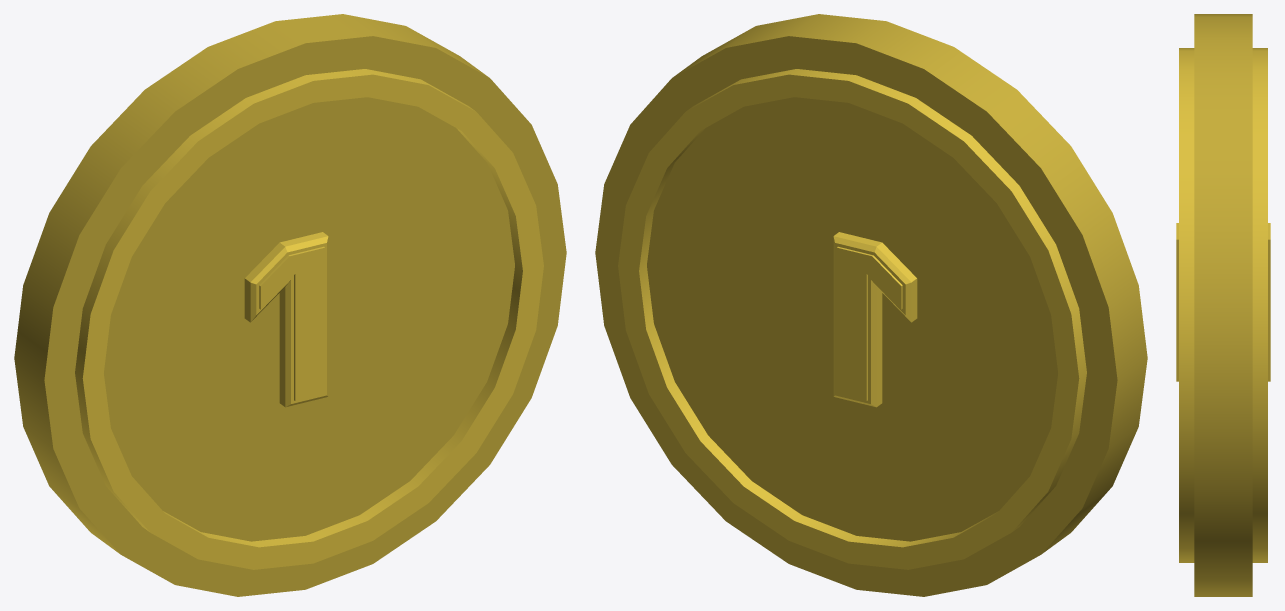
Rendered from Coin.fbx.
3 renders of one model, left to right at view 1: azimuth 30°, elevation 25°; view 2: azimuth 150°, elevation 25°; view 3: azimuth 270°, elevation 25°, orthographic. The views are drawn at different scales.
Parts seen in each view (by area): view 1: coin, text; view 2: coin, text; view 3: coin, text.
Part boxes in pixels (x1=…): coin: x1=14, y1=14, x2=566, y2=596; text: x1=244, y1=232, x2=328, y2=407; coin: x1=595, y1=14, x2=1147, y2=596; text: x1=833, y1=232, x2=917, y2=407; coin: x1=1179, y1=14, x2=1267, y2=596; text: x1=1176, y1=223, x2=1270, y2=381.
Size of the model in its own units: 120 by 120 by 19.28.
